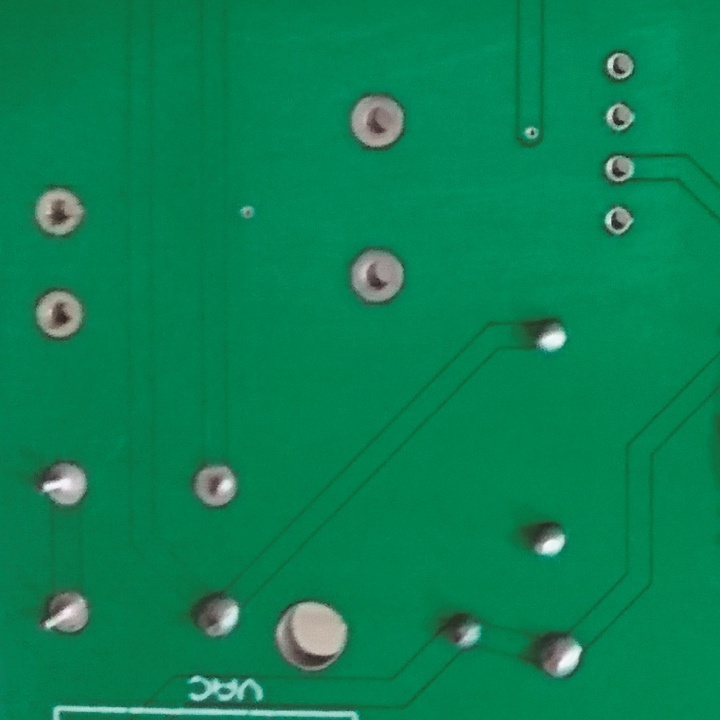F: (346, 91, 406, 152), (347, 245, 408, 304), (30, 186, 84, 238), (34, 289, 87, 341), (38, 588, 92, 638), (39, 460, 88, 509), (192, 463, 239, 506), (600, 151, 636, 185), (602, 203, 637, 237), (602, 100, 638, 132), (604, 50, 638, 82)
